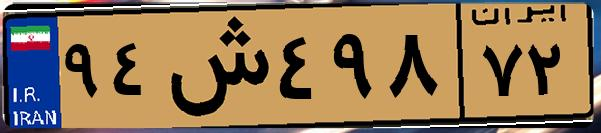2: (525, 38, 570, 115)
4: (270, 28, 330, 110), (110, 28, 158, 98)
7: (475, 38, 525, 113)
8: (385, 28, 445, 110)
9: (330, 28, 385, 110), (57, 26, 110, 100)
ش: (158, 12, 270, 120)
